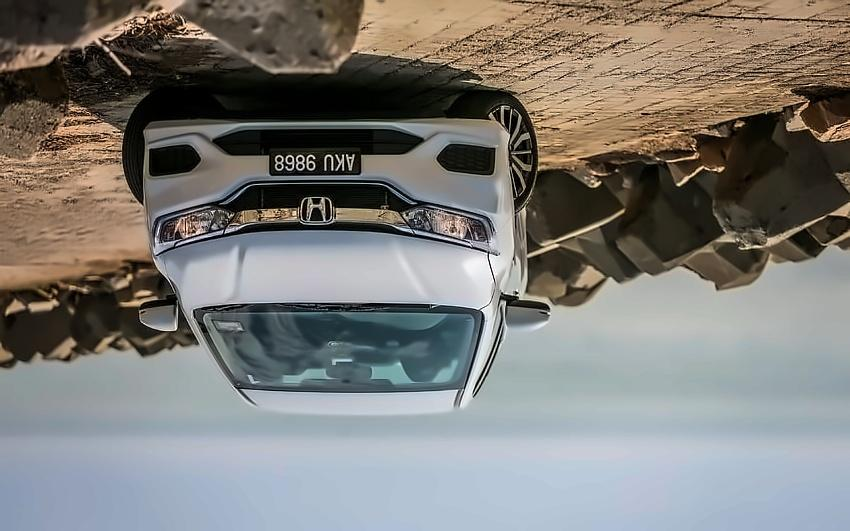Car hood: (156, 227, 501, 310)
Front bumper: (136, 114, 520, 211)
Headlight - -L-: (143, 201, 235, 251)
Headlight - -R-: (392, 199, 507, 257)
Side mirror - -L-: (132, 293, 185, 337)
Side mirror - -R-: (500, 290, 554, 338)
